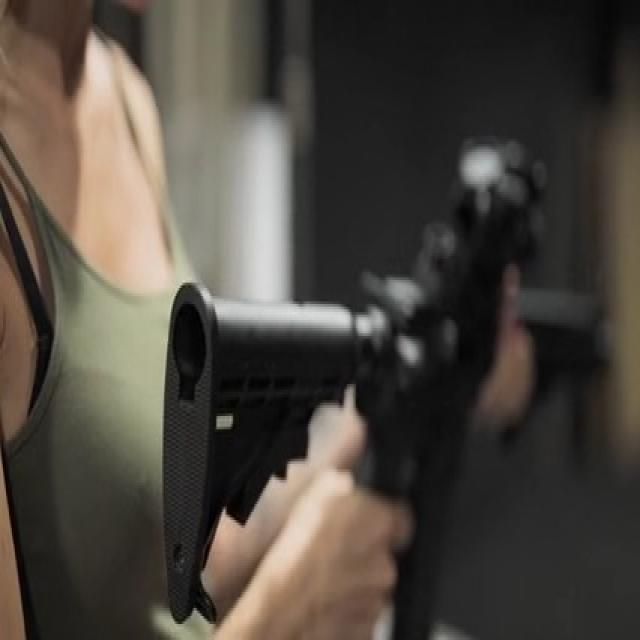Gun_Holder: (141, 87, 626, 640)
